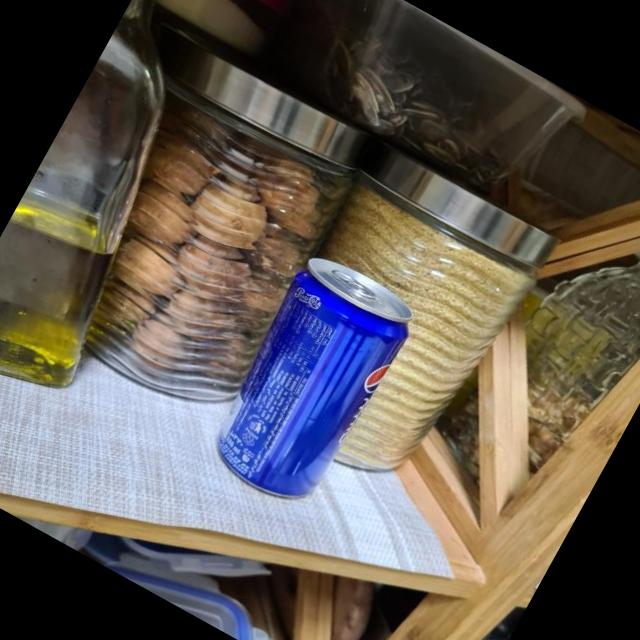Kaleng: (194, 243, 425, 518)
